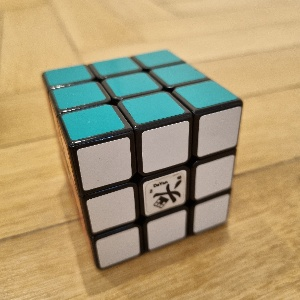cube: (42, 49, 245, 272)
